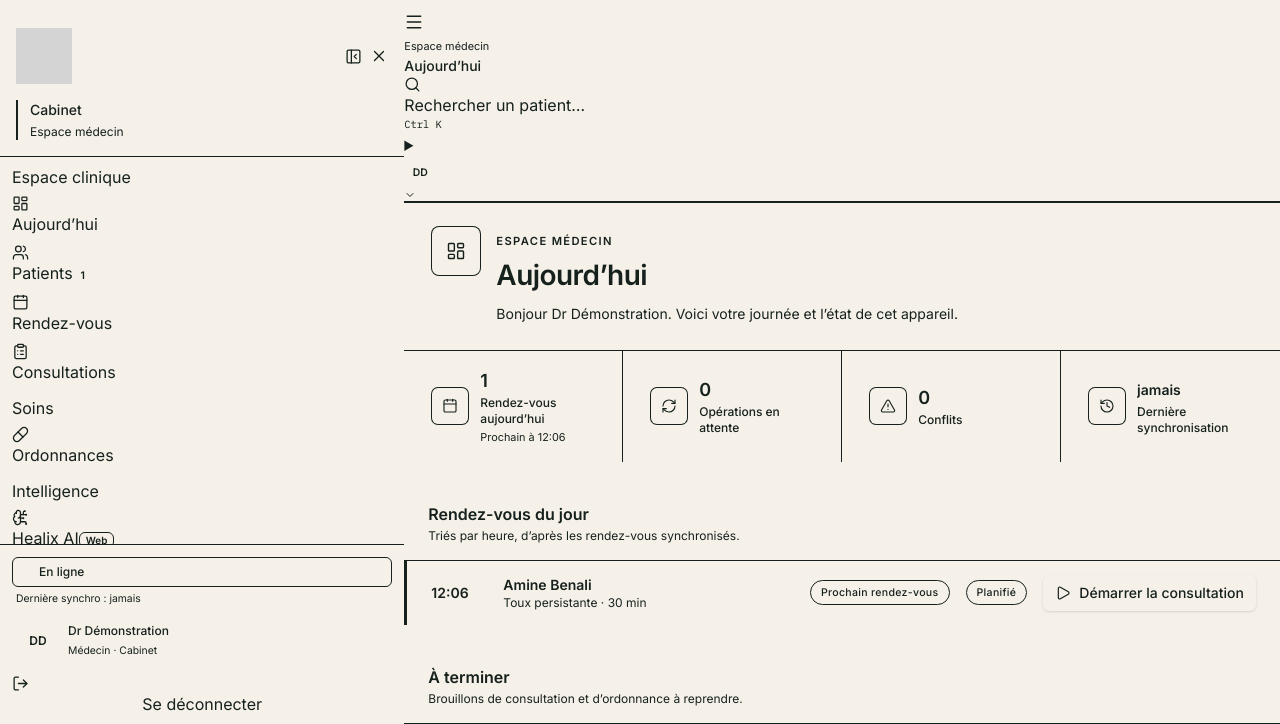
Scenario: App routing › 'Retour' leads back to where the consultation was opened from
Click the button "Démarrer la consultation".
click(1150, 593)  # box [1043, 575, 1256, 611]
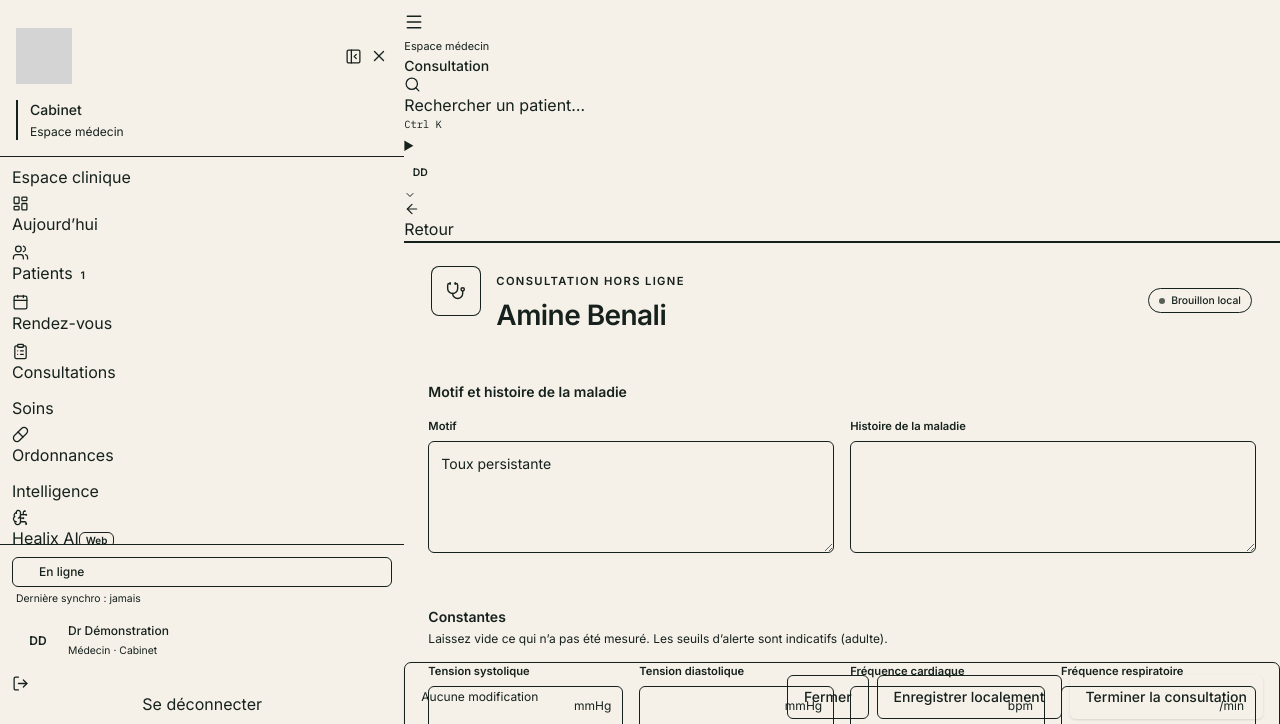
Click the button "Retour".
click(429, 221)  # box [404, 201, 454, 241]
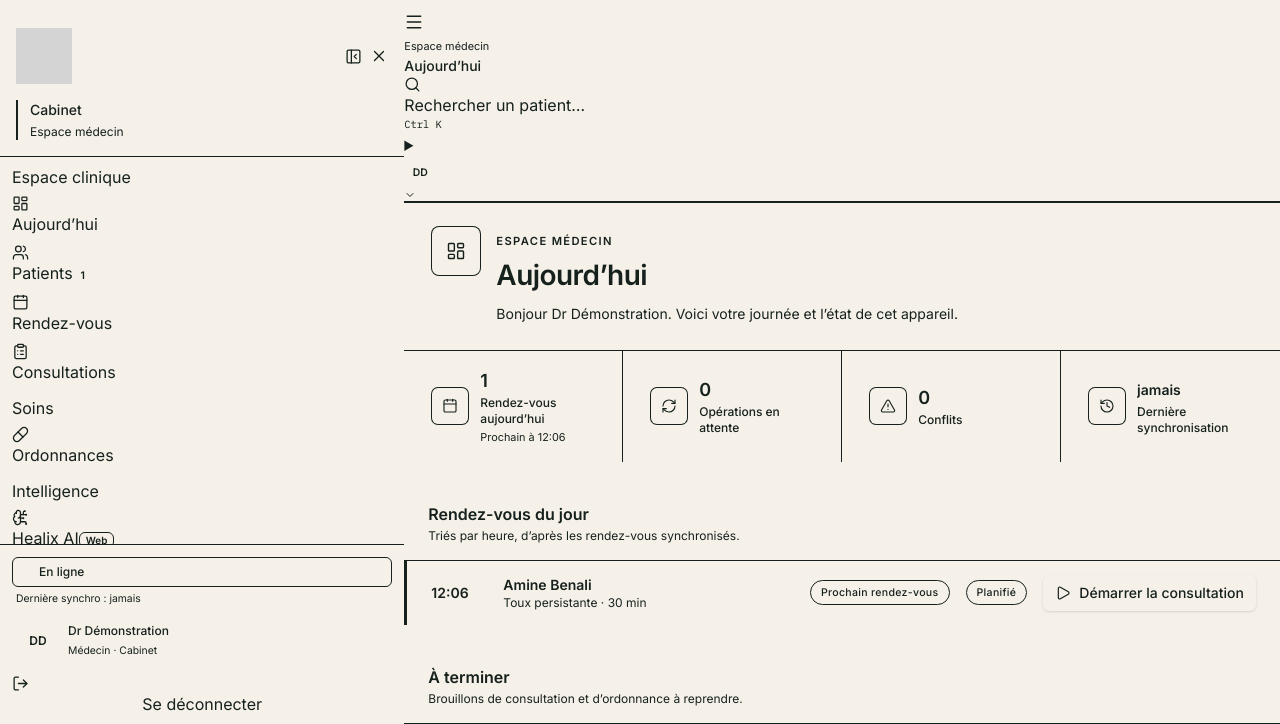
Expected: the heading "Rendez-vous du jour" is shown, [428, 504, 589, 524]
Expected: the button "Retour" is gone
